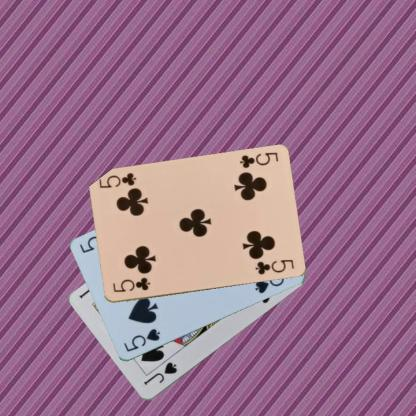5c: (237, 150, 280, 170), (110, 275, 151, 294)
5s: (121, 326, 161, 353)
Js: (140, 359, 178, 387)
